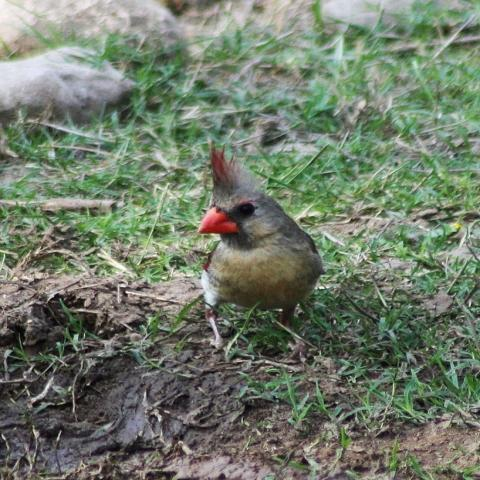bird: (192, 144, 327, 359)
